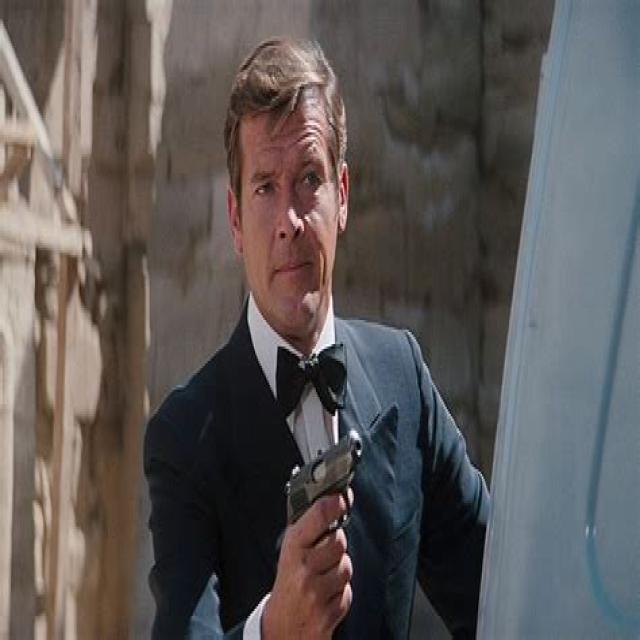weapons: (279, 419, 383, 611)
